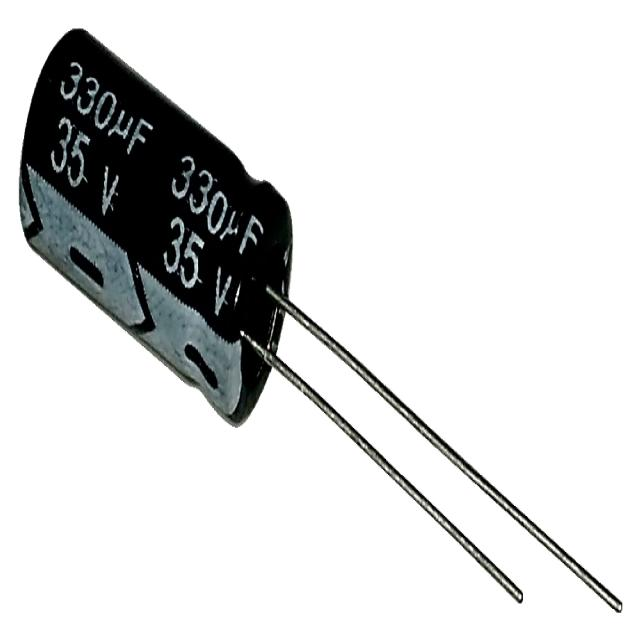Capacitor: (17, 29, 623, 611)
